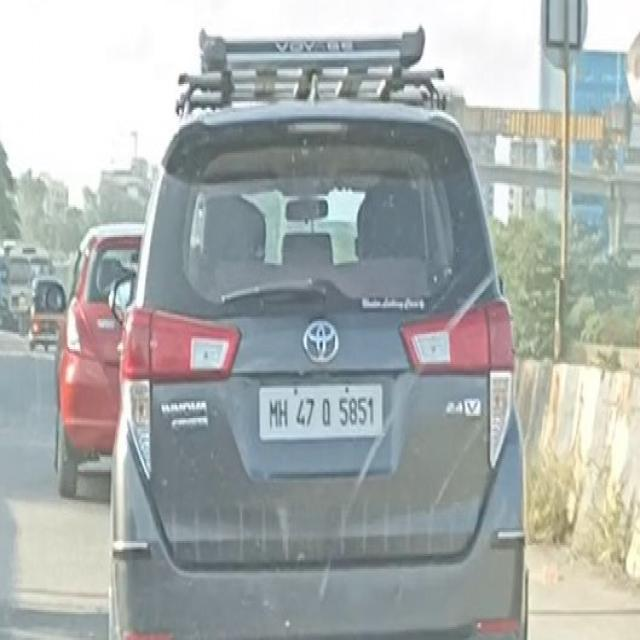Plate: (258, 383, 382, 437)
